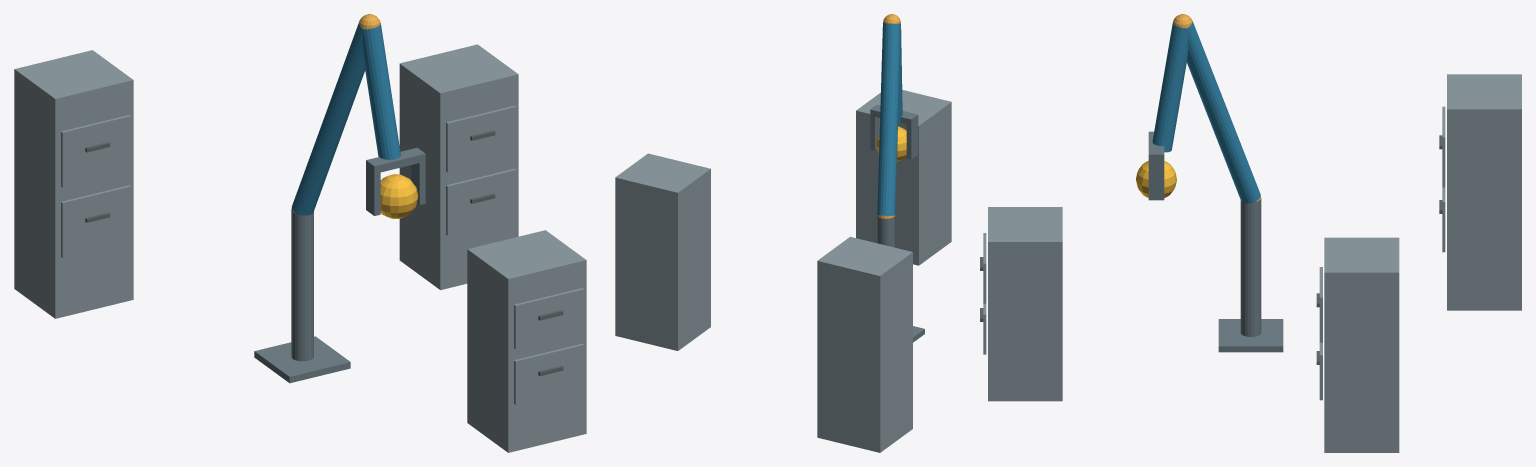
3 views of the same model, side by side, from view 1: azimuth 30°, elevation 25°; view 2: azimuth 150°, elevation 25°; view 3: azimuth 270°, elevation 25° (orthographic). The views are drawn at different scales.
Parts seen in each view (by area): view 1: cabinet_3 body, cabinet_1 body, cabinet_2 body, moving link 1, cabinet_3 drawer front, cabinet_3 drawer front.001, cabinet_2 drawer front, cabinet_2 drawer front.001, fixed post, cabinet_1 drawer front.001, cabinet_1 drawer front, moving link 2 (+4 smaller); view 2: cabinet_3 body, cabinet_2 body, cabinet_1 body, moving link 1, fixed post, gripper finger -1, ball ball_1; view 3: cabinet_3 body, cabinet_2 body, cabinet_1 body, moving link 1, fixed post, moving link 2, pedestal, ball ball_1, gripper finger 1.
Part boxes in pixels (box(x1,y1,x2,y2)): cabinet_3 body: box(14, 50, 133, 318); cabinet_1 body: box(467, 230, 586, 452); cabinet_2 body: box(399, 44, 518, 290); moving link 1: box(292, 21, 365, 215); cabinet_3 drawer front: box(61, 185, 131, 257); cabinet_3 drawer front.001: box(61, 114, 131, 187); cabinet_2 drawer front: box(446, 168, 516, 235); cabinet_2 drawer front.001: box(446, 105, 516, 172); fixed post: box(291, 209, 313, 361); cabinet_1 drawer front.001: box(514, 288, 584, 349); cabinet_1 drawer front: box(514, 343, 584, 404); moving link 2: box(362, 23, 400, 159); cabinet_3 body: box(817, 236, 912, 452); cabinet_2 body: box(615, 153, 710, 350); cabinet_1 body: box(856, 90, 951, 265); moving link 1: box(877, 23, 900, 215); fixed post: box(877, 216, 895, 247); gripper finger -1: box(906, 121, 918, 159); ball ball_1: box(876, 126, 906, 161); cabinet_3 body: box(1447, 74, 1521, 310); cabinet_2 body: box(1324, 237, 1399, 452); cabinet_1 body: box(988, 207, 1062, 401); moving link 1: box(1187, 21, 1260, 203); fixed post: box(1240, 198, 1261, 336); moving link 2: box(1152, 22, 1188, 152); pedestal: box(1218, 319, 1283, 352); ball ball_1: box(1136, 161, 1176, 197); gripper finger 1: box(1148, 161, 1164, 200).
Size of the model in its own units: 1.62 by 1.44 by 2.1.
